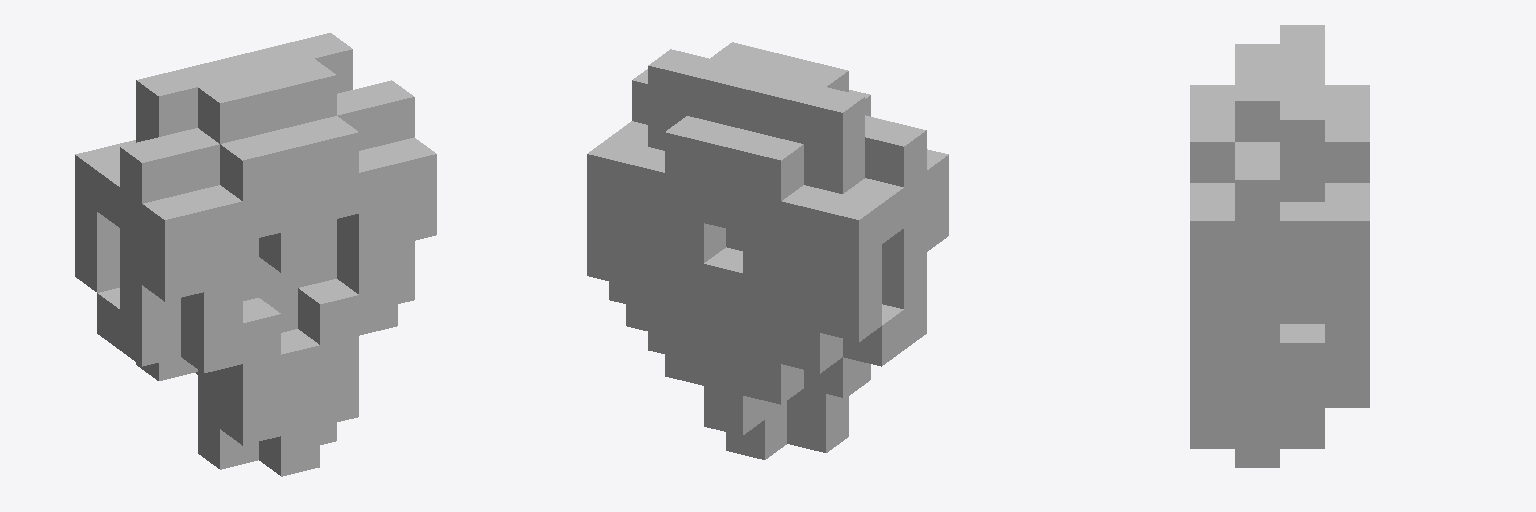
File: SmallArmorKit_LOD0.obj
3 renders of one model, left to right at view 1: azimuth 30°, elevation 25°; view 2: azimuth 150°, elevation 25°; view 3: azimuth 270°, elevation 25°, orthographic.
Parts seen in each view (by area): view 1: object 1; view 2: object 1; view 3: object 1.
Boxes of the visible parts, x1,y1,x2,y2 form: object 1: [75, 33, 436, 476]; object 1: [587, 42, 948, 459]; object 1: [1190, 25, 1369, 467].
Bounding box in the file's own units: 0.7 × 0.9 × 0.4.